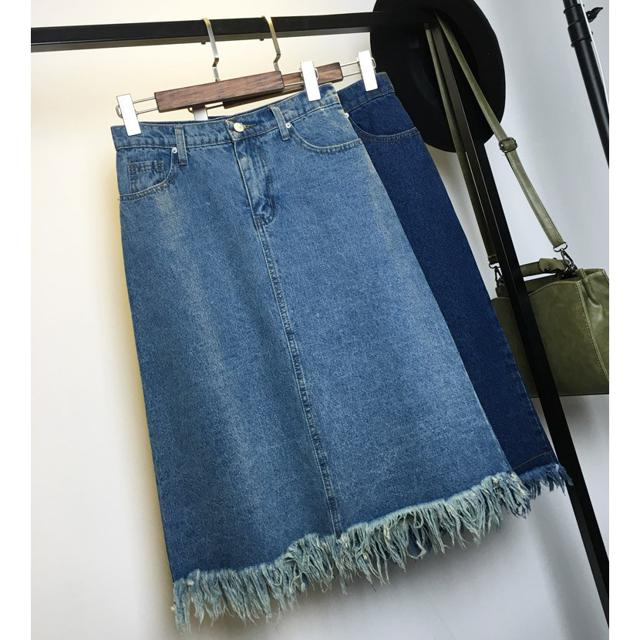Skirts: (110, 91, 528, 624)
